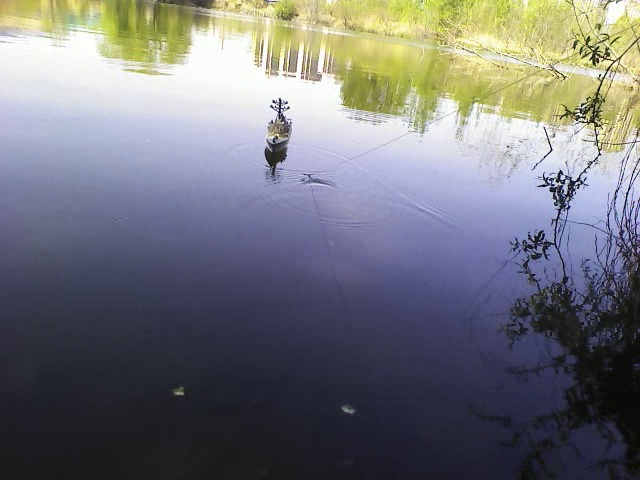warship: (264, 94, 298, 155)
